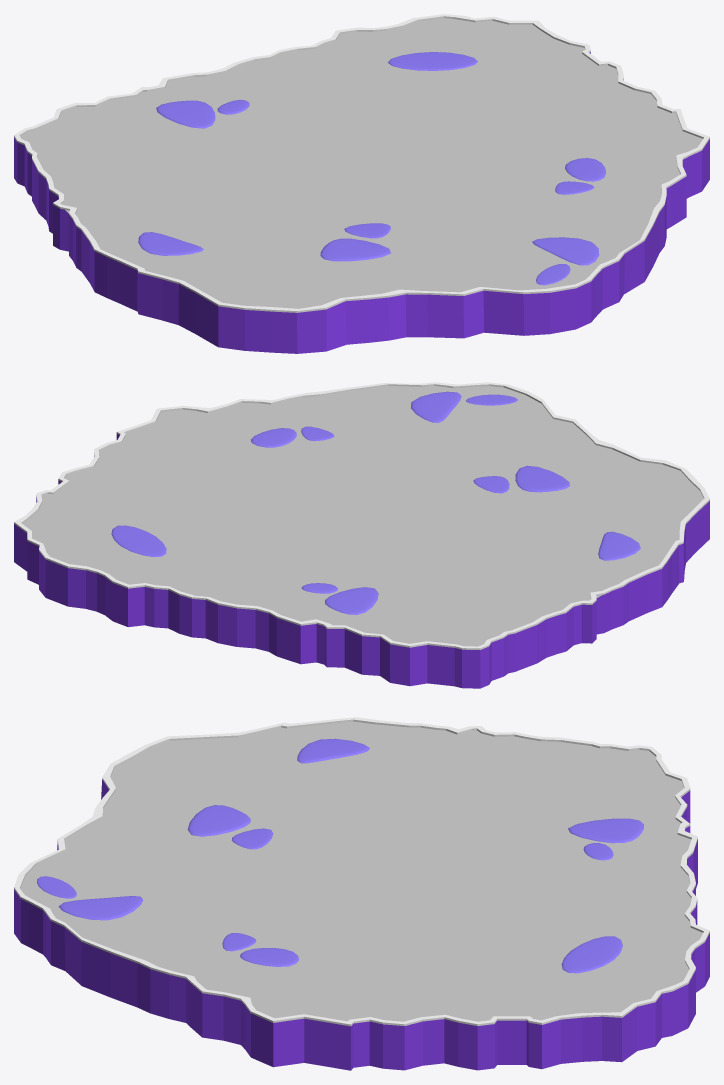
File: Island_2.fbx
The picture shows the model from 3 angles, top to bottom: view 1: azimuth 30°, elevation 25°; view 2: azimuth 150°, elevation 25°; view 3: azimuth 270°, elevation 25°; orthographic projection. The views are drawn at different scales.
Visible parts, largest first — view 1: Island_2; view 2: Island_2; view 3: Island_2.
Part boxes in pixels (x1,y1,x2,y2): Island_2: (14, 14, 709, 353); Island_2: (14, 382, 709, 688); Island_2: (14, 717, 709, 1070).
Size of the model in its own units: 119 by 8.37 by 114.
